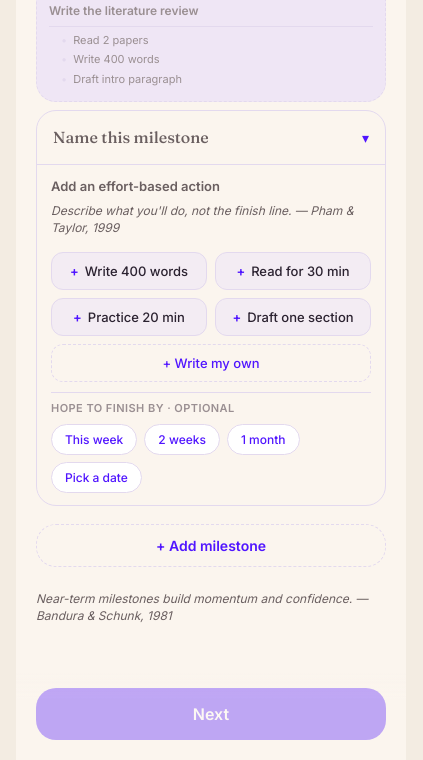
it: + Add milestone adds a second milestone
The width and height of the screenshot is (423, 760).
(page scrolled)
Click the button "+ Add milestone" at (211, 546), box [36,524,386,567]
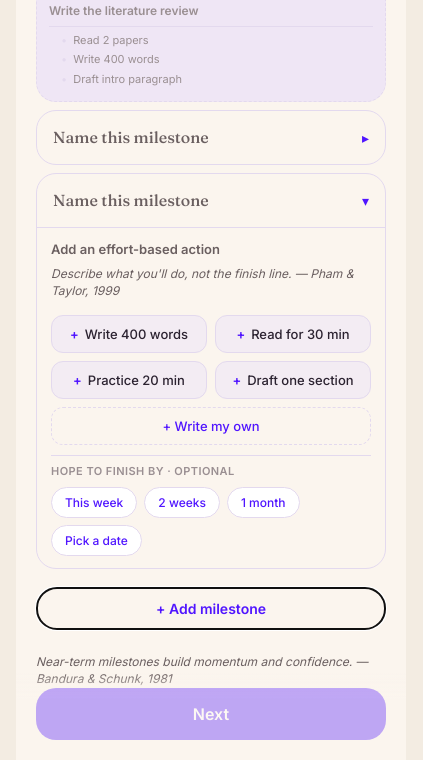
Now the number of fields with placeholder "Name this milestone" is 2, box [51,121,350,154]; [51,184,350,217]
